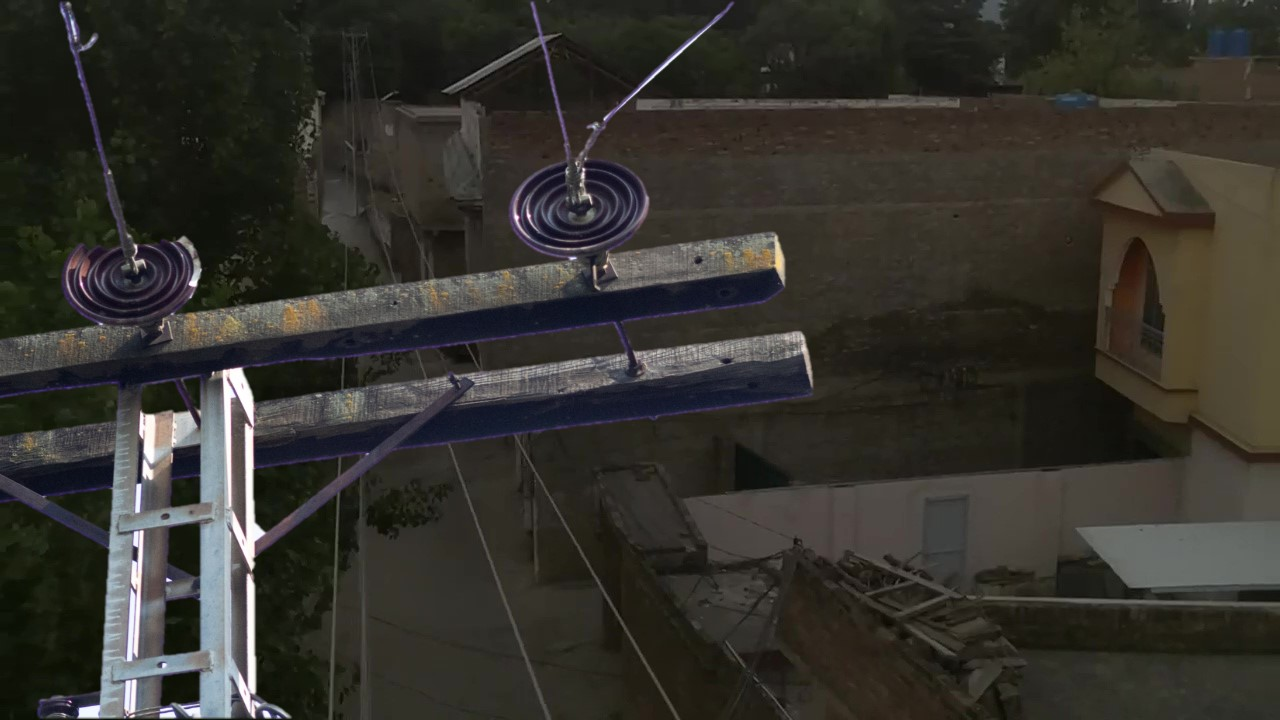defect_disc: (59, 221, 211, 330)
insulator_disc: (507, 152, 657, 259)
